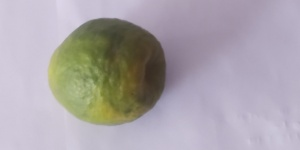BAD: (47, 16, 169, 123)
